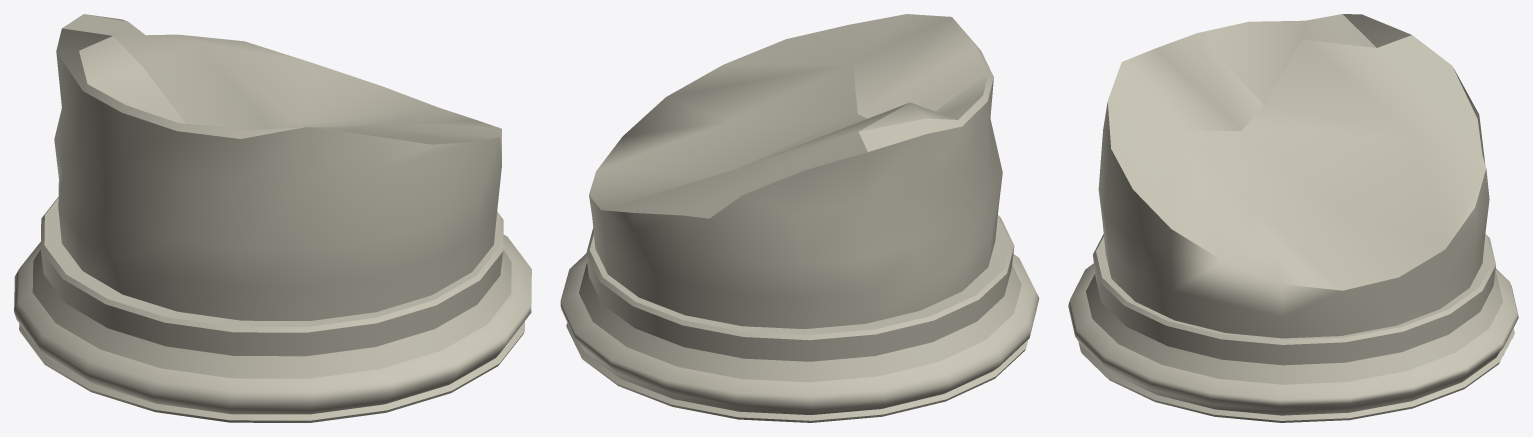
File: Columna_Base_FBX.fbx
3 renders of one model, left to right at view 1: azimuth 30°, elevation 25°; view 2: azimuth 150°, elevation 25°; view 3: azimuth 270°, elevation 25°, orthographic. The views are drawn at different scales.
Visible parts, largest first — view 1: Columna_Base; view 2: Columna_Base; view 3: Columna_Base.
Boxes of the visible parts, x1,y1,x2,y2 form: Columna_Base: (14,14,531,422); Columna_Base: (560,14,1039,422); Columna_Base: (1068,14,1518,422).
Size of the model in its own units: 0.9939 by 0.5991 by 0.9921.
